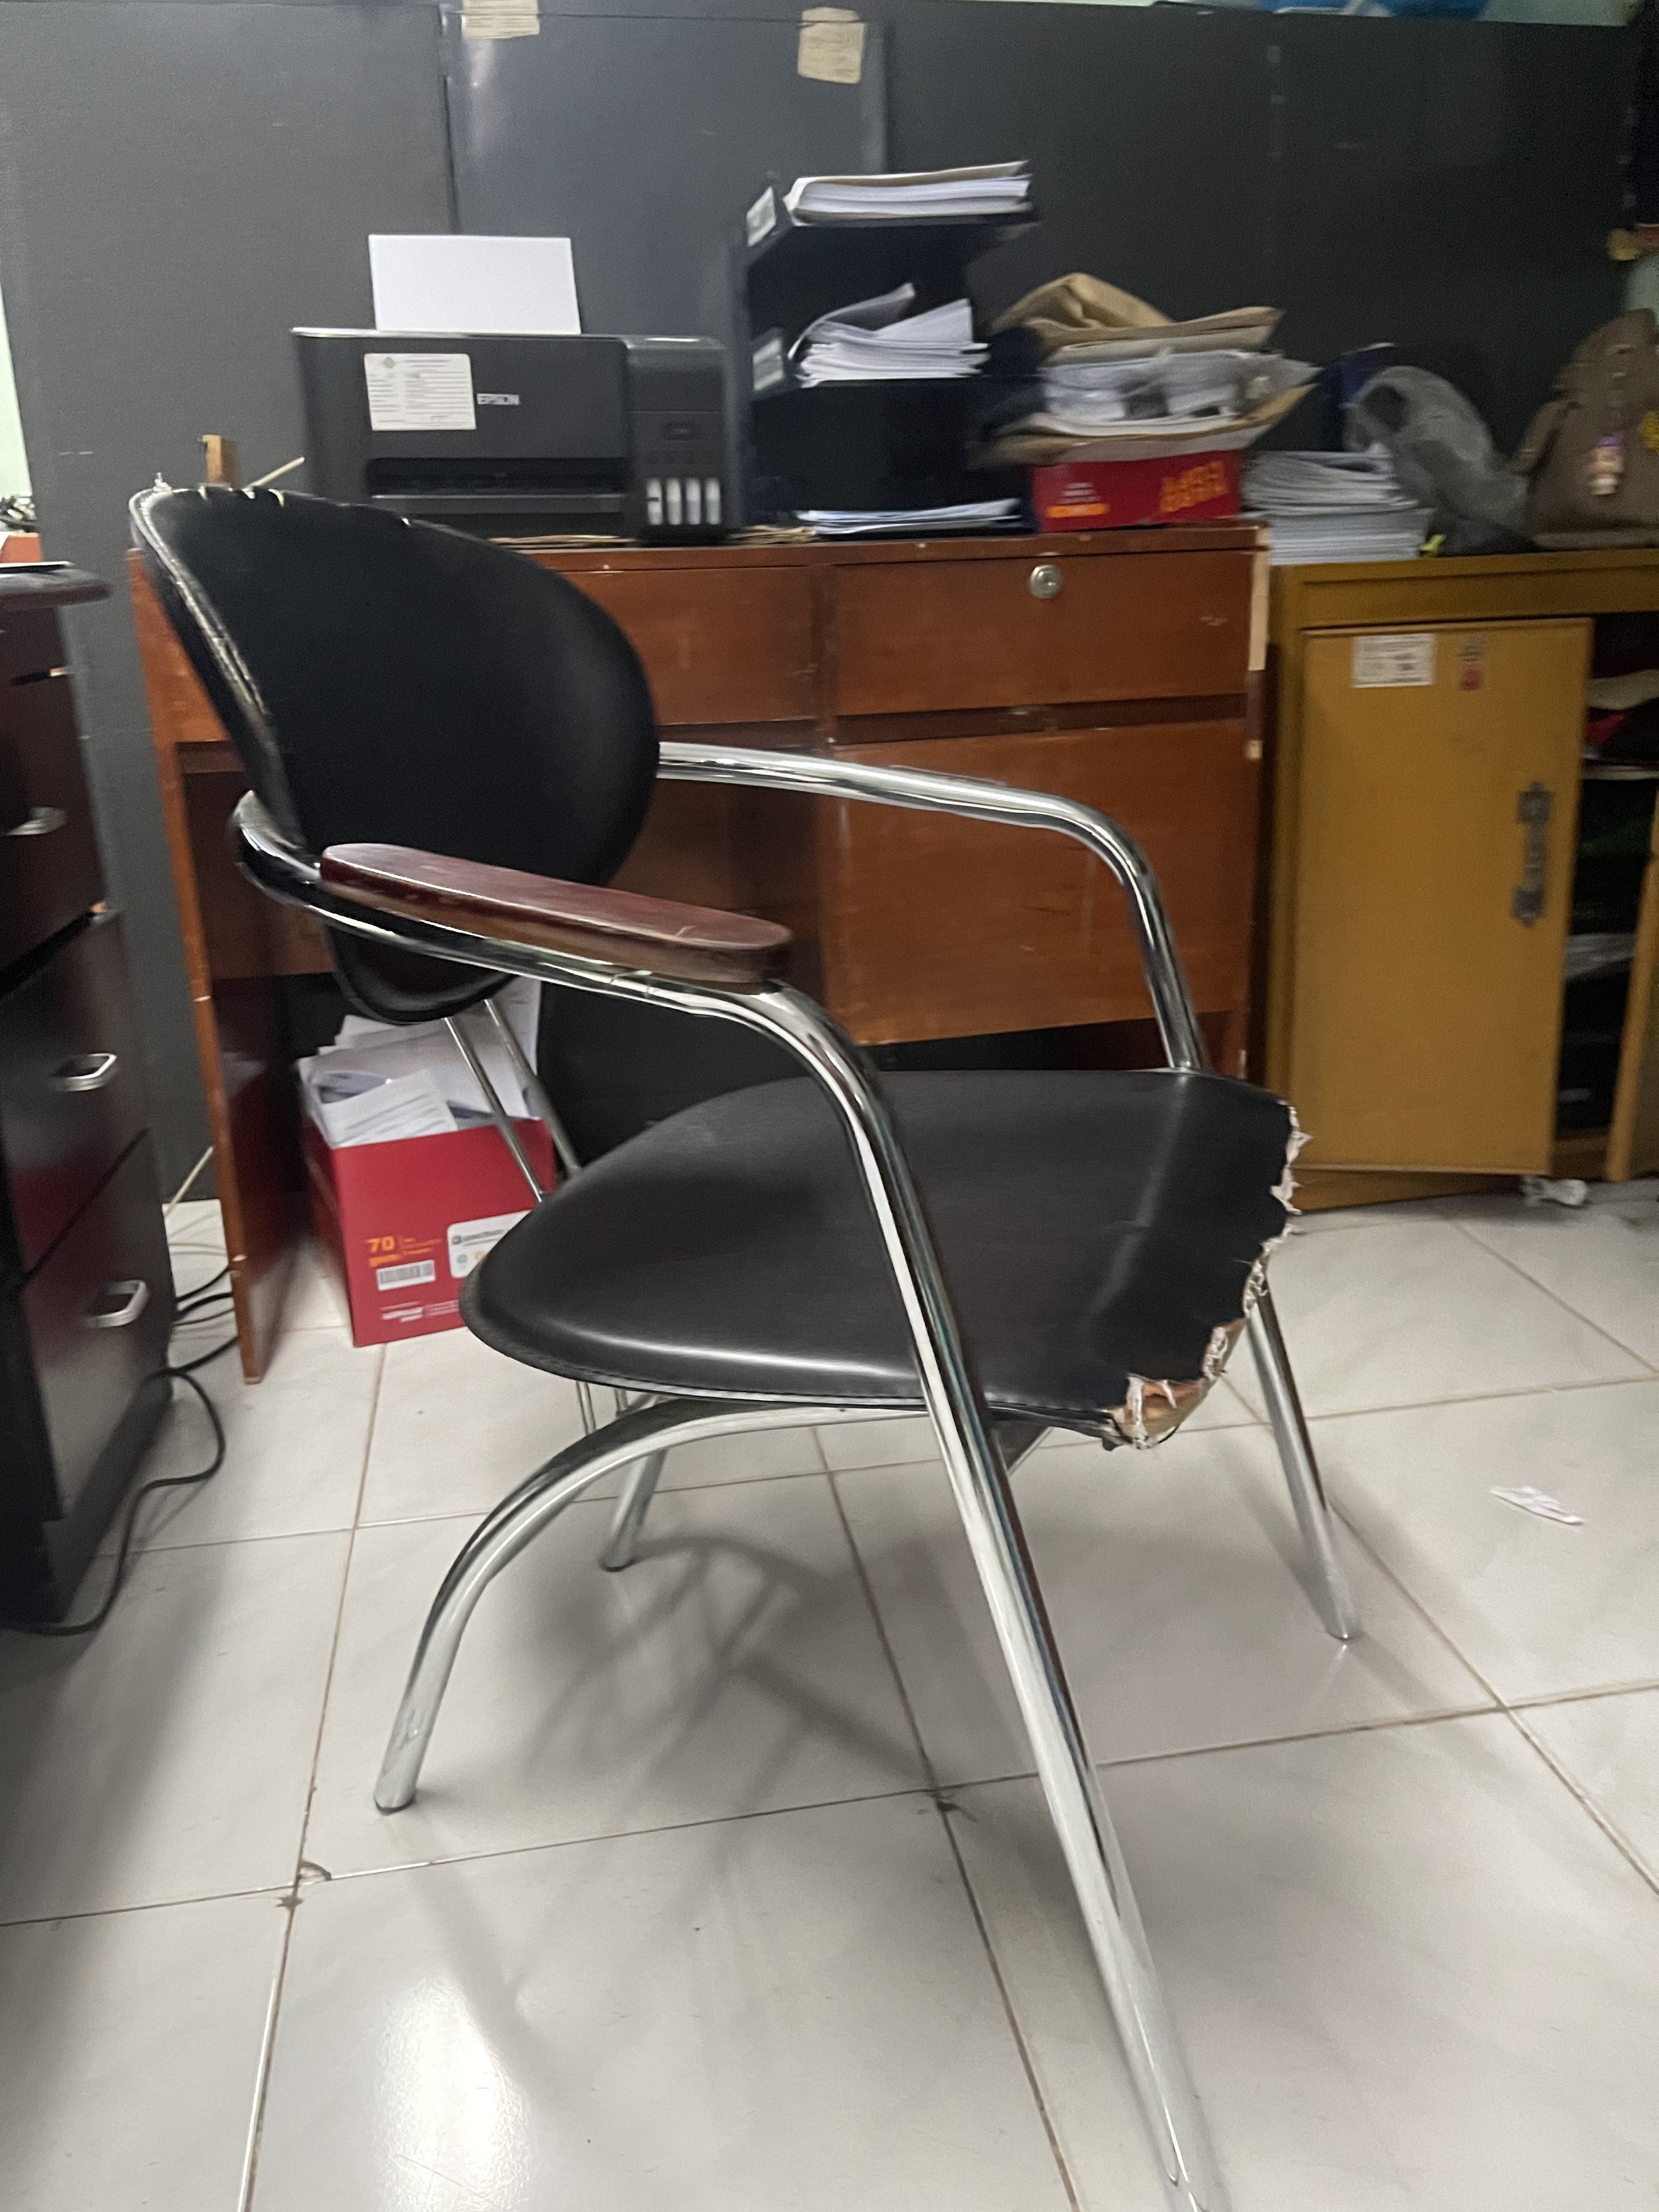chair1: (134, 482, 1377, 2212)
